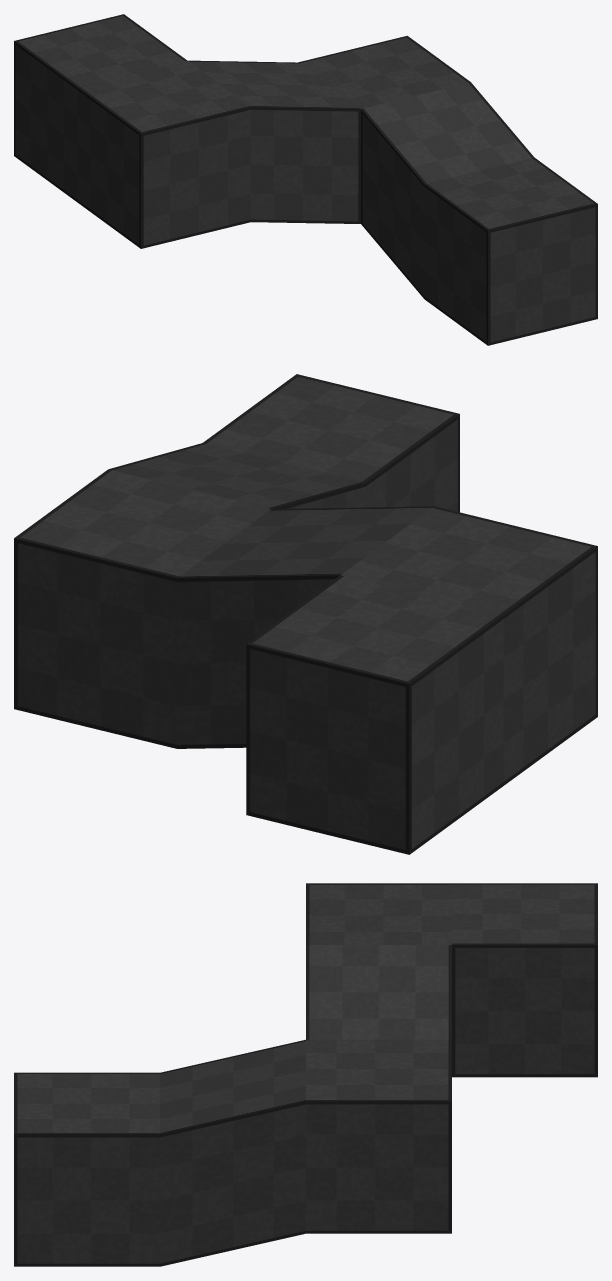
Rendered from dungeon2.obj.
3 renders of one model, top to bottom at view 1: azimuth 30°, elevation 25°; view 2: azimuth 150°, elevation 25°; view 3: azimuth 270°, elevation 25°, orthographic. The views are drawn at different scales.
Visible parts, largest first — view 1: Cube; view 2: Cube; view 3: Cube.
Boxes of the visible parts, x1,y1,x2,y2 form: Cube: (14, 14, 597, 345); Cube: (14, 374, 597, 854); Cube: (14, 883, 597, 1266).
Size of the model in its own units: 384 by 192 by 512.
Materials: 1 (1 with a texture image).
